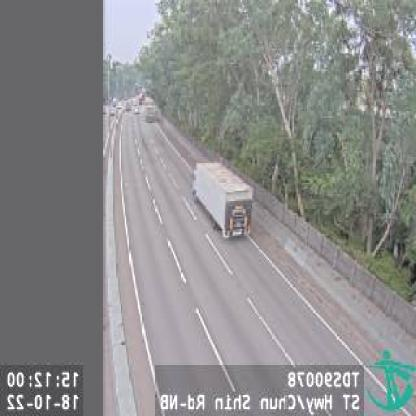Bus: (144, 102, 156, 122)
Truck: (189, 160, 254, 240)
